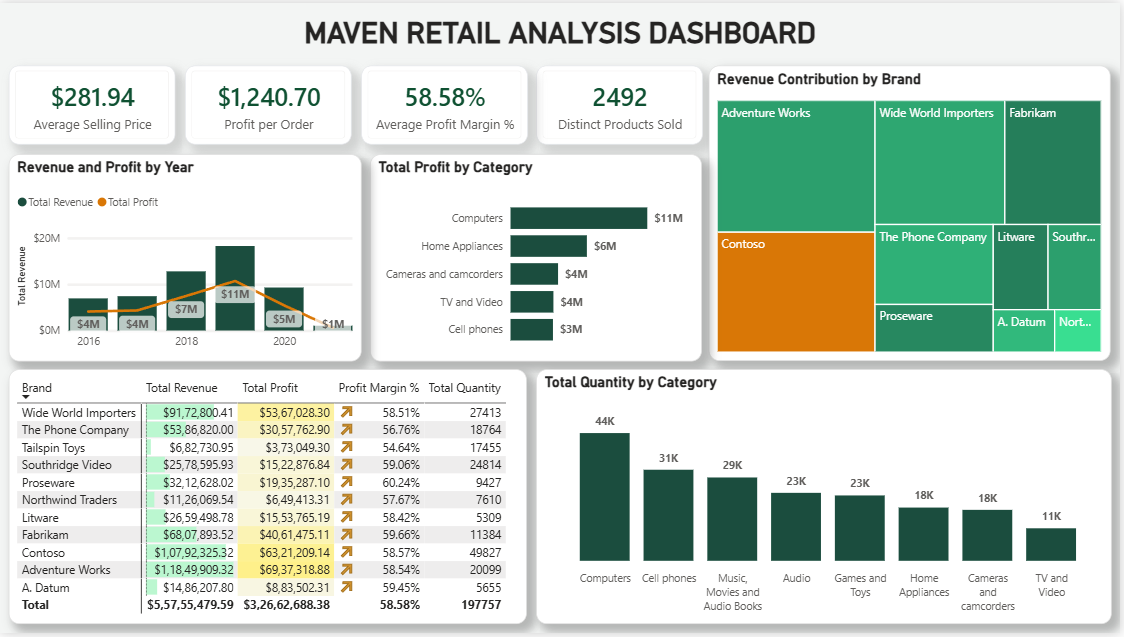

The page's visual inventory and layout, read from the dashboard file:
{"tool":"powerbi","page":{"name":"Product Performance Analysis","canvas":[1280,720],"ordinal":1},"visuals":[{"type":"cardVisual","fields":{"Data":["_Measures.Average Selling Price"]},"box":[10,71.4,190,90],"z":0},{"type":"cardVisual","fields":{"Data":["_Measures.Total Products"]},"box":[612.5,71.2,190,90],"z":1000},{"type":"cardVisual","fields":{"Data":["_Measures.Profit per Order"]},"box":[211.2,71.2,190,90],"z":2000},{"type":"cardVisual","fields":{"Data":["_Measures.Profit Margin %"]},"box":[412.5,71.2,190,90],"z":3000},{"type":"treemap","title":"Revenue Contribution by Brand","fields":{"Group":["Products.Brand"],"Values":["_Measures.Total Revenue"]},"box":[810,71.1,458.9,337.8],"z":4000},{"type":"clusteredBarChart","fields":{"Category":["Products.Category"],"Y":["_Measures.Total Profit"]},"box":[423.3,172.2,378.9,236.7],"z":5000},{"type":"textbox","box":[10,10,1260,61.4],"z":6000},{"type":"lineClusteredColumnComboChart","title":"Revenue and Profit by Year","fields":{"Category":["DimDate.Year"],"Y":["_Measures.Total Revenue"],"Y2":["_Measures.Total Profit"]},"box":[10,172.2,403.3,236.7],"z":7000},{"type":"pivotTable","fields":{"Rows":["Products.Brand"],"Values":["_Measures.Total Revenue","_Measures.Total Profit","_Measures.Profit Margin %","_Measures.Total Quantity"]},"box":[10,418.9,592.2,291.1],"z":8000},{"type":"clusteredColumnChart","fields":{"Category":["Products.Category"],"Y":["_Measures.Total Quantity"]},"box":[612.2,418.9,657.8,291.1],"z":9000}]}

Visuals, with their boxes in screenshot pixels (x1, y1, x2, y2), scaled from the page's 1280x720 canvas onto the 1124x637 screenshot:
cardVisual - _Measures.Average Selling Price: BBox(9, 63, 176, 143)
cardVisual - _Measures.Total Products: BBox(538, 63, 705, 143)
cardVisual - _Measures.Profit per Order: BBox(185, 63, 352, 143)
cardVisual - _Measures.Profit Margin %: BBox(362, 63, 529, 143)
"Revenue Contribution by Brand" treemap: BBox(711, 63, 1114, 362)
clusteredBarChart - Products.Category x _Measures.Total Profit: BBox(372, 152, 704, 362)
textbox: BBox(9, 9, 1115, 63)
"Revenue and Profit by Year" lineClusteredColumnComboChart: BBox(9, 152, 363, 362)
pivotTable - Products.Brand x _Measures.Total Revenue: BBox(9, 371, 529, 628)
clusteredColumnChart - Products.Category x _Measures.Total Quantity: BBox(538, 371, 1115, 628)
